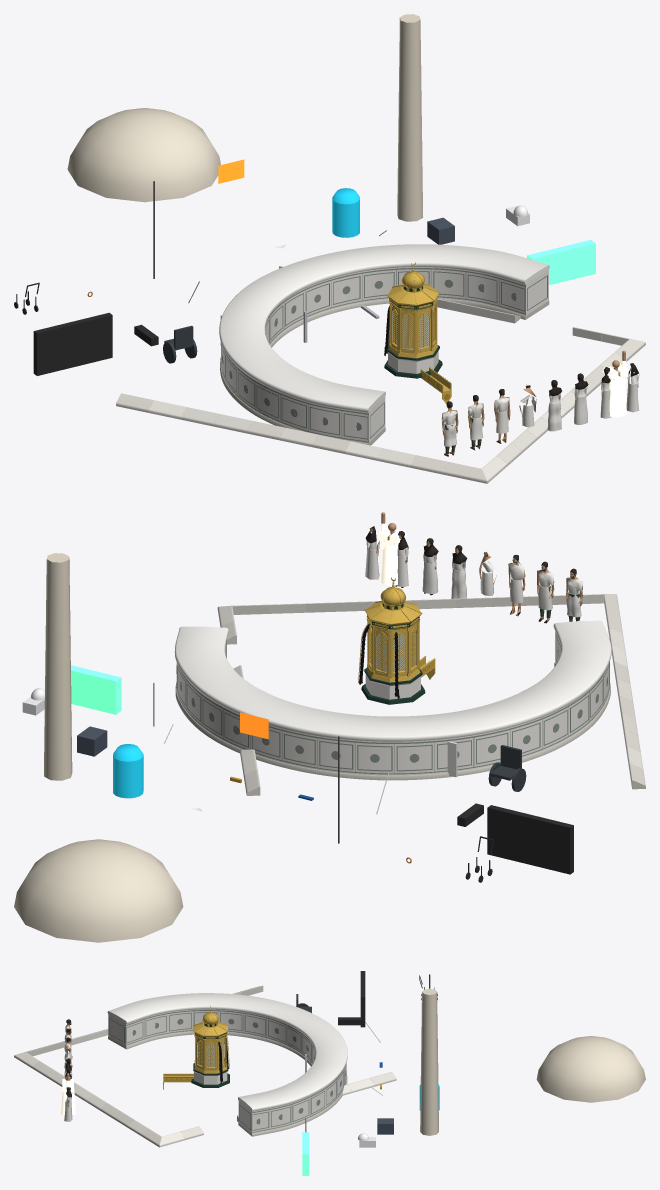
The model's file is props.glb.
3 views of the same model, one above another, from view 1: azimuth 30°, elevation 25°; view 2: azimuth 150°, elevation 25°; view 3: azimuth 270°, elevation 25° (orthographic). The views are drawn at different scales.
Parts seen in each view (by area): view 1: hatim_cap, hatim_body, gallery_dome, shazarwan_marble, gallery_column, hatim_inlay, lamp_back, maqam_gold, lamp_panel, hatim_base, zamzam_cooler, maqam_lattice (+5 smaller); view 2: hatim_cap, gallery_dome, hatim_body, shazarwan_marble, gallery_column, hatim_inlay, lamp_back, maqam_gold, hatim_base, lamp_panel, zamzam_cooler, chair (+11 smaller); view 3: hatim_cap, hatim_body, gallery_dome, shazarwan_marble, gallery_column, hatim_inlay, maqam_gold, hatim_base, maqam_lattice, lamp_panel, maqam_pane, lamp_back (+2 smaller).
Part boxes in pixels (bbox=[...]): hatim_cap: bbox=[219, 244, 549, 412]; hatim_body: bbox=[221, 267, 548, 443]; gallery_dome: bbox=[67, 108, 220, 202]; shazarwan_marble: bbox=[116, 266, 645, 483]; gallery_column: bbox=[397, 14, 423, 221]; hatim_inlay: bbox=[221, 268, 525, 442]; lamp_back: bbox=[33, 312, 112, 375]; maqam_gold: bbox=[387, 283, 439, 358]; lamp_panel: bbox=[527, 240, 595, 285]; hatim_base: bbox=[220, 298, 549, 445]; zamzam_cooler: bbox=[332, 188, 359, 237]; maqam_lattice: bbox=[392, 308, 434, 348]; hatim_cap: bbox=[174, 620, 611, 741]; gallery_dome: bbox=[14, 839, 183, 942]; hatim_body: bbox=[176, 632, 609, 775]; shazarwan_marble: bbox=[217, 594, 645, 795]; gallery_column: bbox=[44, 553, 72, 780]; hatim_inlay: bbox=[176, 631, 609, 774]; lamp_back: bbox=[487, 805, 573, 874]; maqam_gold: bbox=[364, 600, 422, 682]; hatim_base: bbox=[175, 662, 610, 780]; lamp_panel: bbox=[71, 665, 121, 714]; zamzam_cooler: bbox=[113, 744, 143, 798]; chair: bbox=[488, 745, 526, 791]; hatim_cap: bbox=[107, 993, 347, 1111]; hatim_body: bbox=[108, 1009, 346, 1133]; gallery_dome: bbox=[536, 1036, 645, 1102]; shazarwan_marble: bbox=[14, 985, 396, 1147]; gallery_column: bbox=[420, 988, 438, 1135]; hatim_inlay: bbox=[126, 1010, 346, 1132]; maqam_gold: bbox=[193, 1021, 228, 1073]; hatim_base: bbox=[108, 1031, 347, 1136]; maqam_lattice: bbox=[197, 1041, 223, 1066]; lamp_panel: bbox=[302, 1132, 309, 1175]; maqam_pane: bbox=[197, 1041, 223, 1066]; lamp_back: bbox=[360, 971, 365, 1027].
Bounding box in the file's own units: 17.8 × 7.2 × 26.58.
